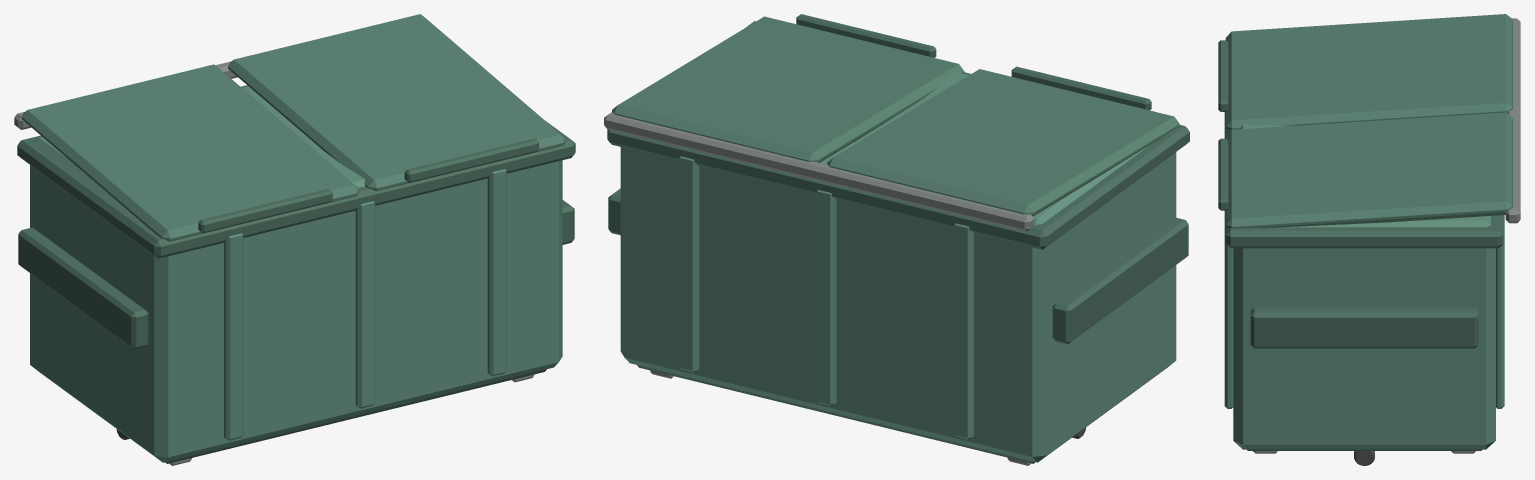
The model's file is dumpster.glb.
3 views of the same model, side by side, from view 1: azimuth 30°, elevation 25°; view 2: azimuth 150°, elevation 25°; view 3: azimuth 270°, elevation 25° (orthographic). The views are drawn at different scales.
Parts seen in each view (by area): view 1: Dumpster; view 2: Dumpster; view 3: Dumpster.
Part boxes in pixels (x1,y1,x2,y2): Dumpster: [14, 14, 575, 465]; Dumpster: [604, 14, 1189, 465]; Dumpster: [1218, 14, 1520, 465].
Bounding box in the file's own units: 2.02 × 1.23 × 1.22.
